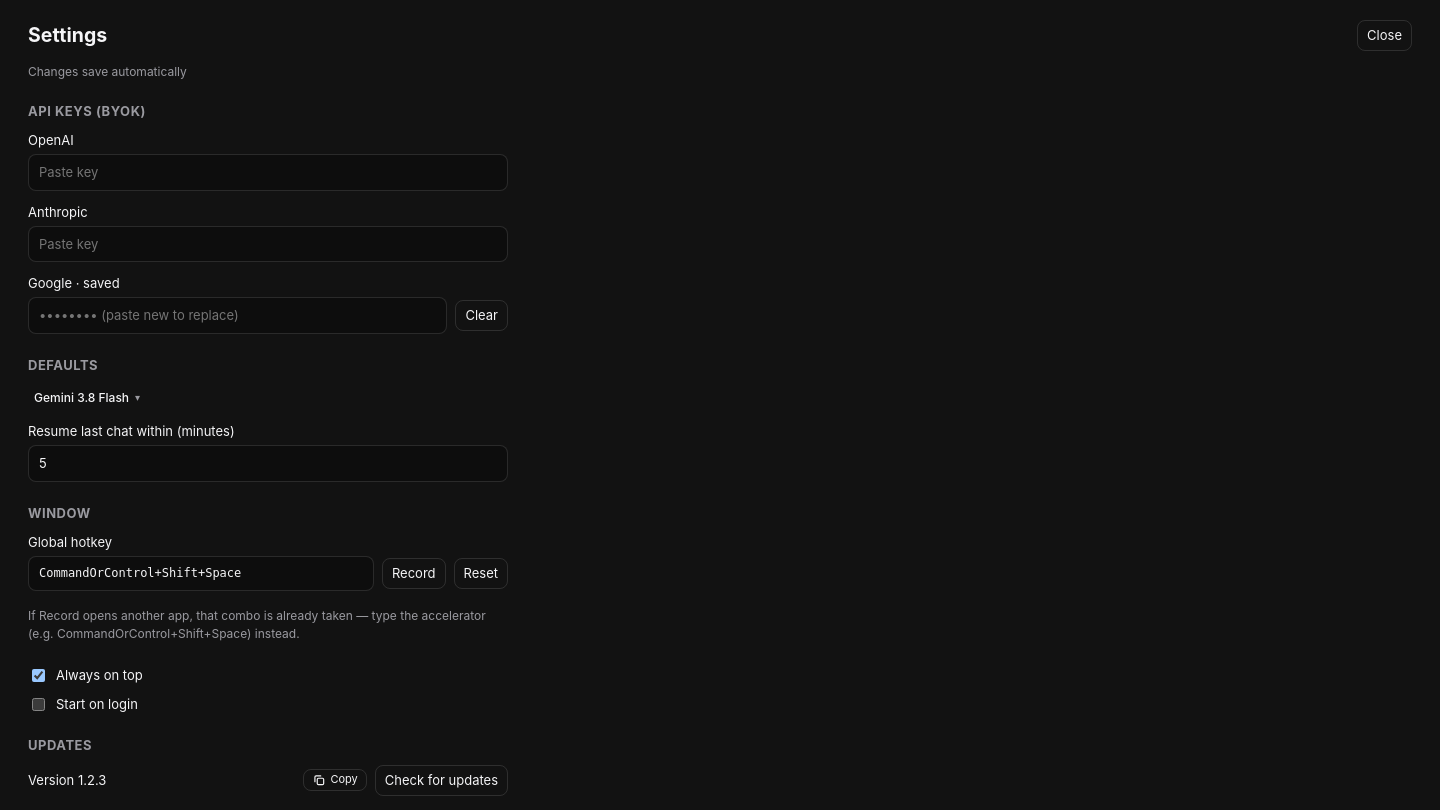
Test: Settings › shows Clear for saved keys and clears on click
Expected: the text "Google · saved" is shown, [28,276,120,292]
Click the button "Clear" at (482, 316), box [456,300,508,331]
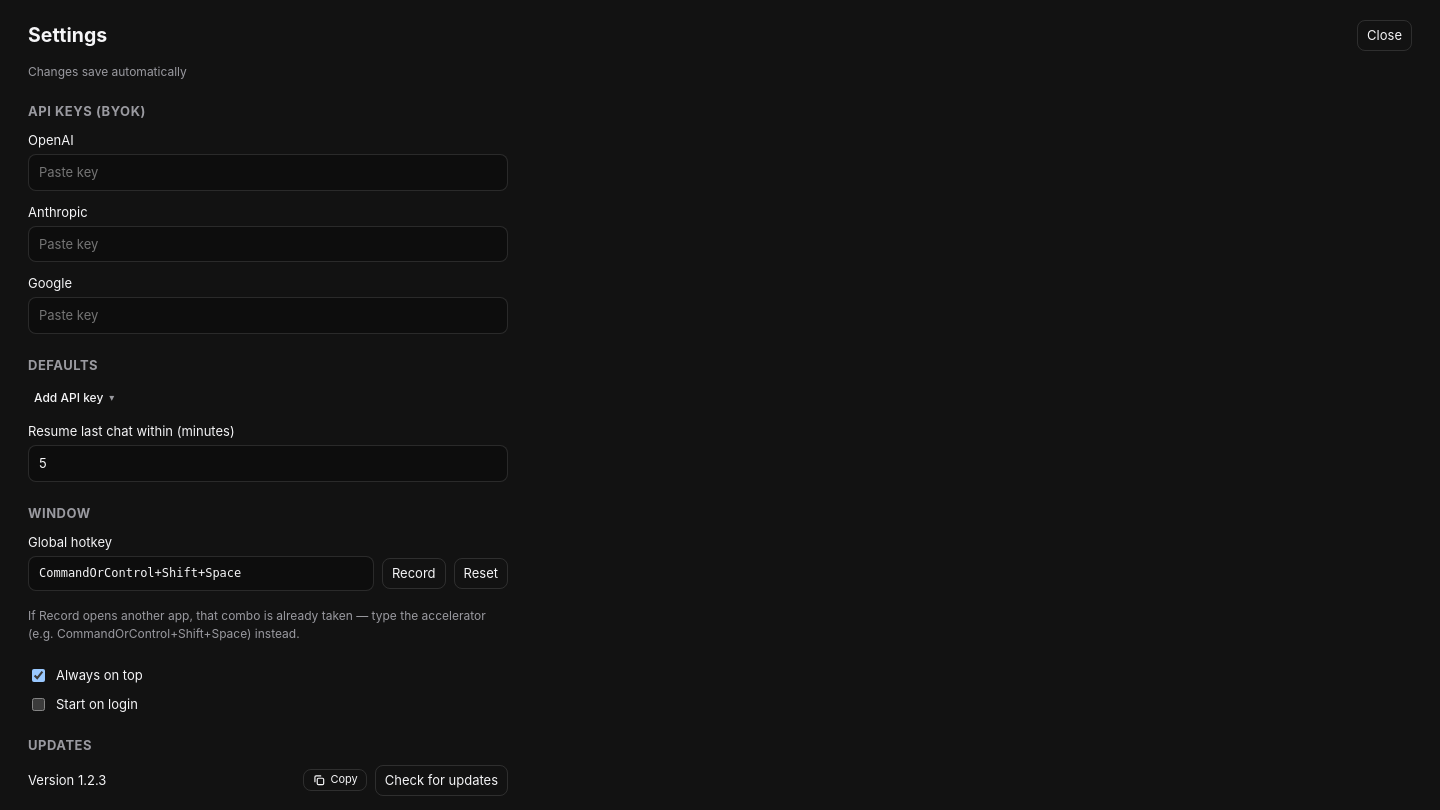
Expected: the button "Clear" is gone
